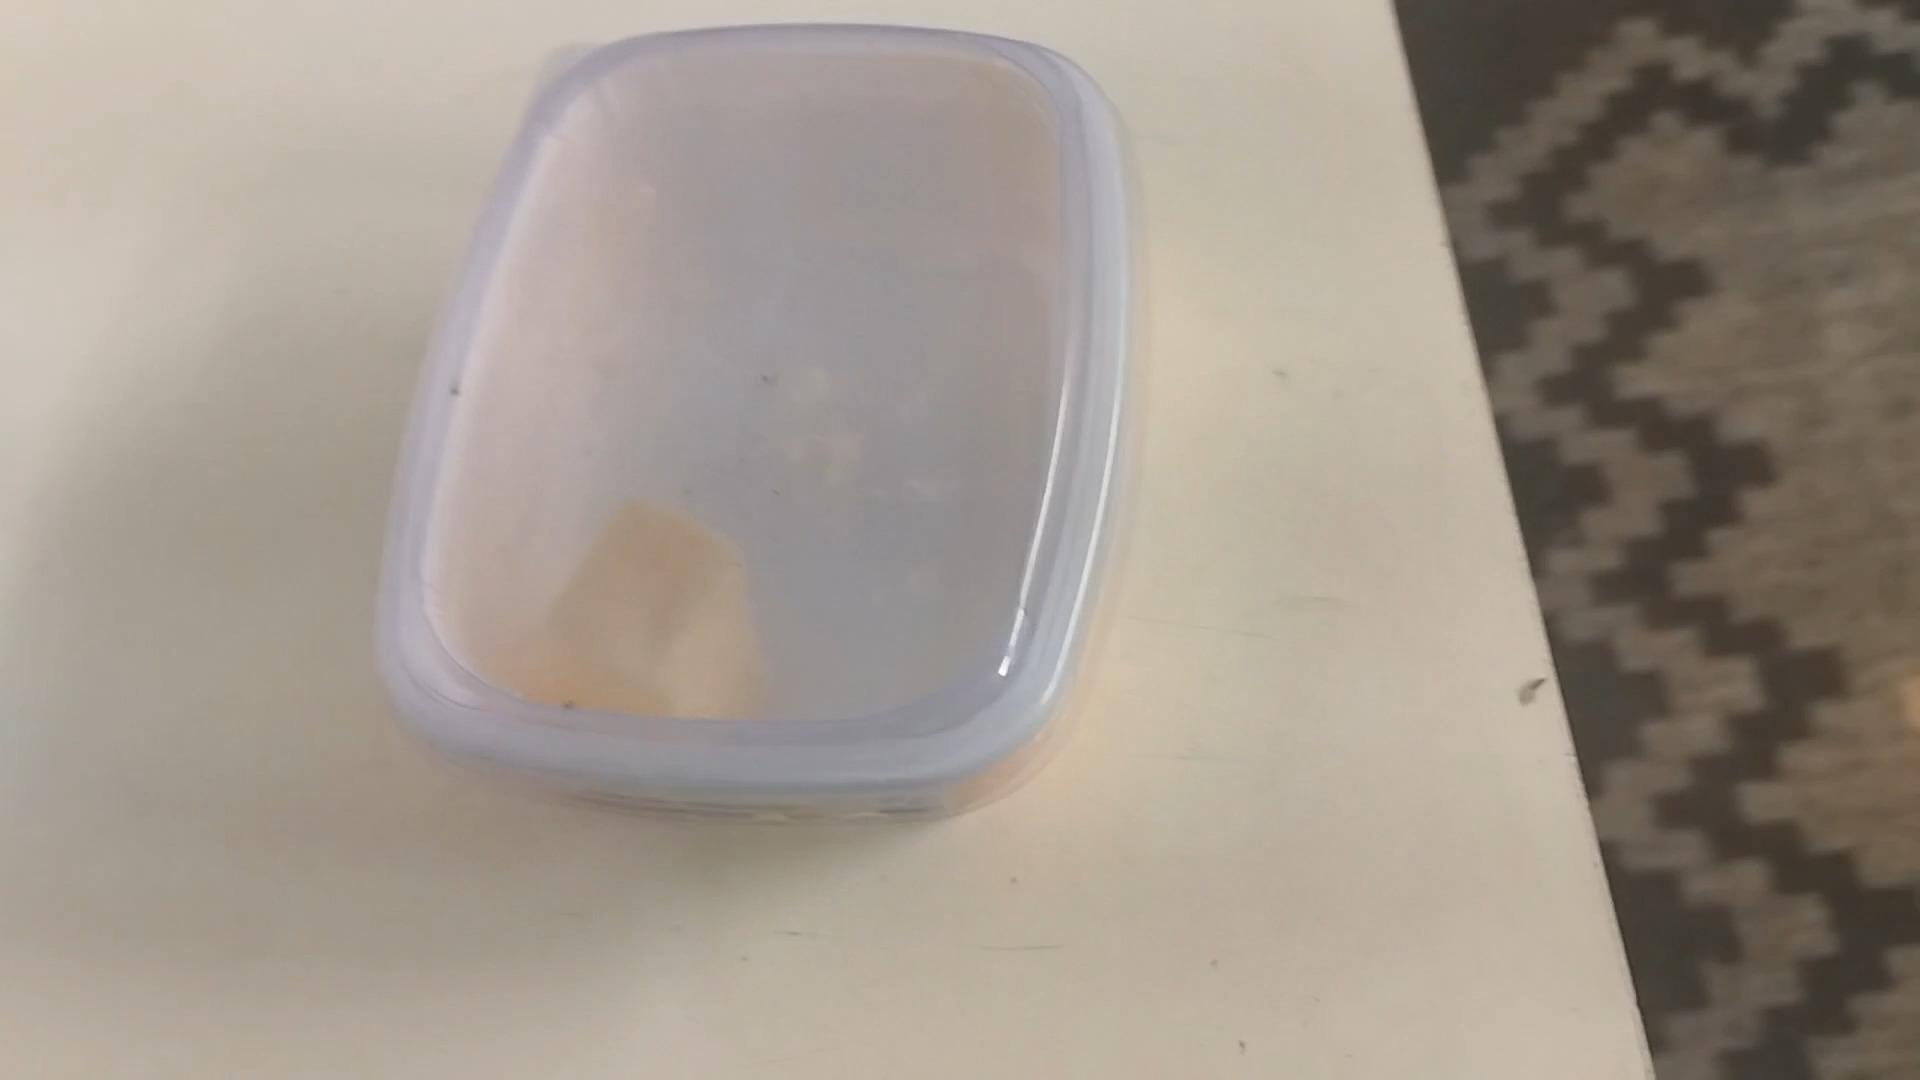butter: (375, 24, 1118, 823)
